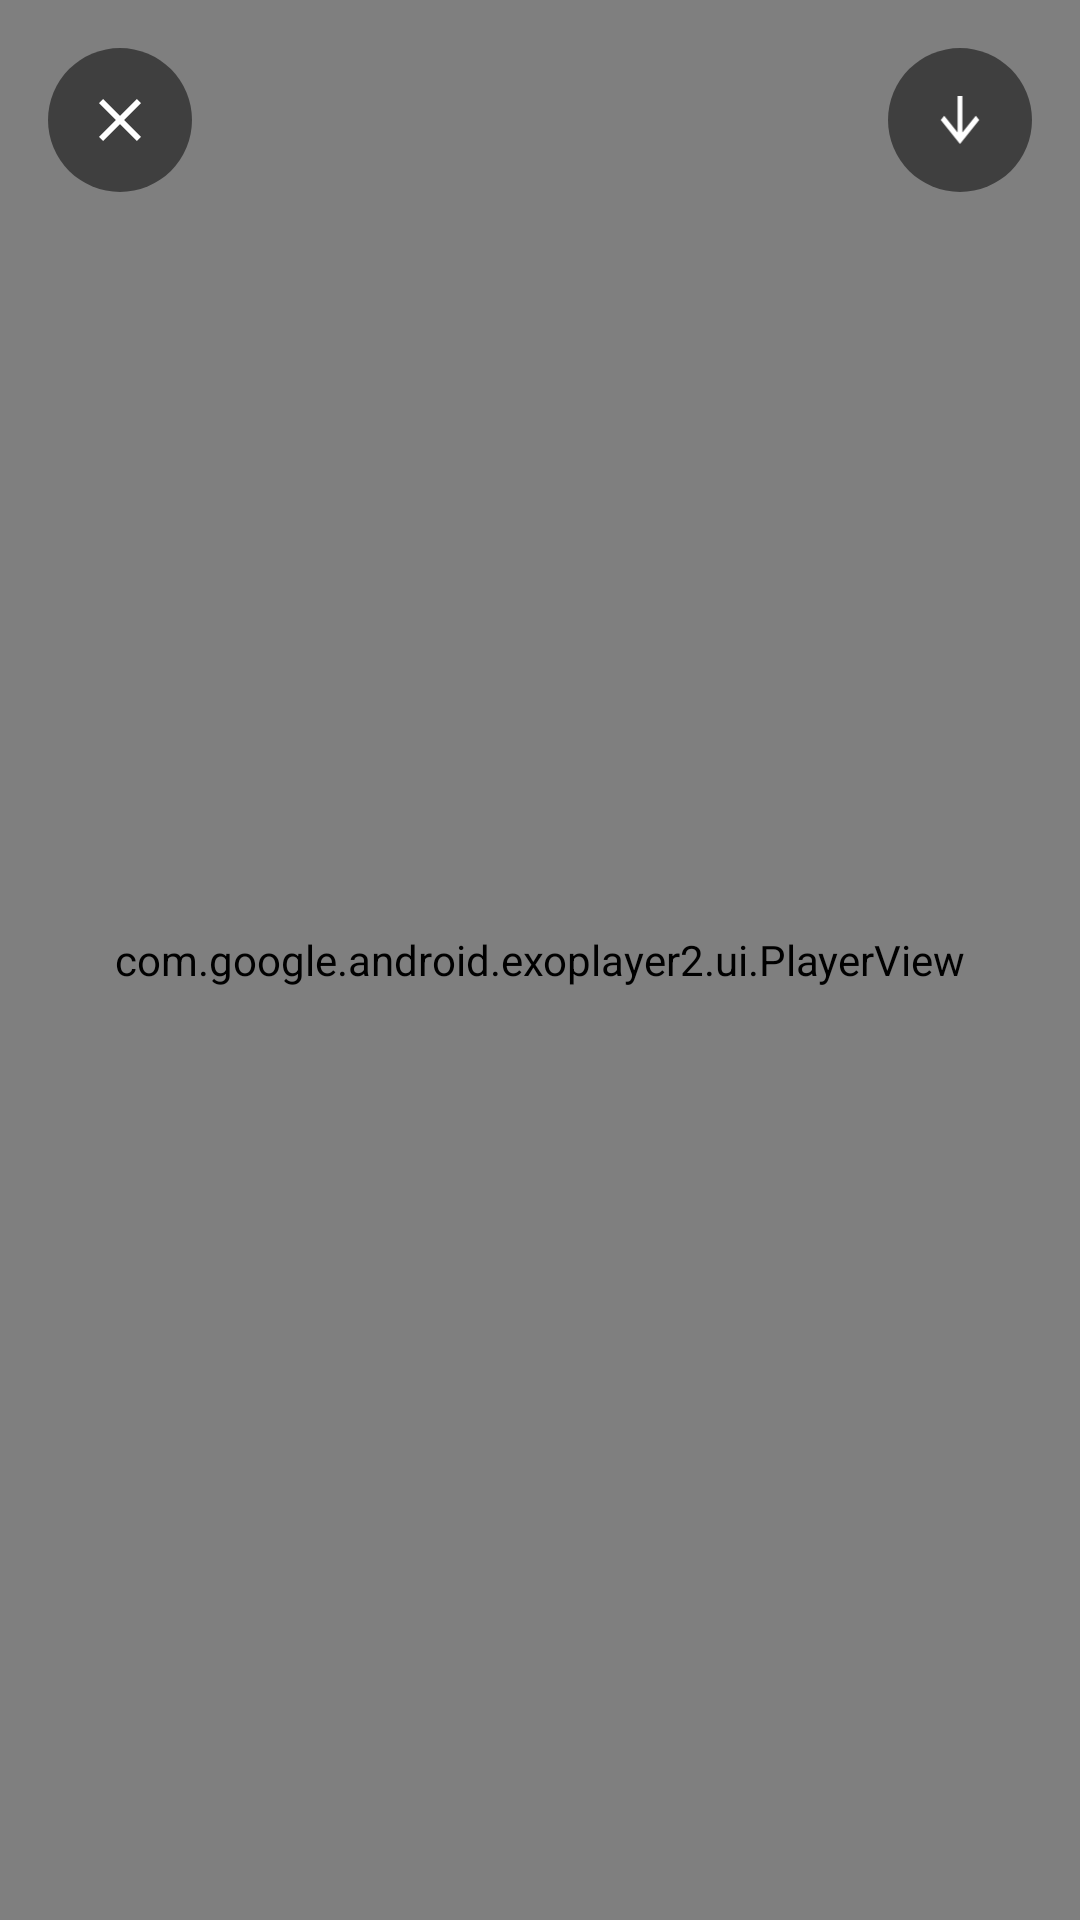

Named icons in this screenshot (1080px×1920px) and their bounding boxes, (x1, y1, x2, y2):
Close: (48, 48, 192, 192)
Download: (888, 48, 1032, 192)
